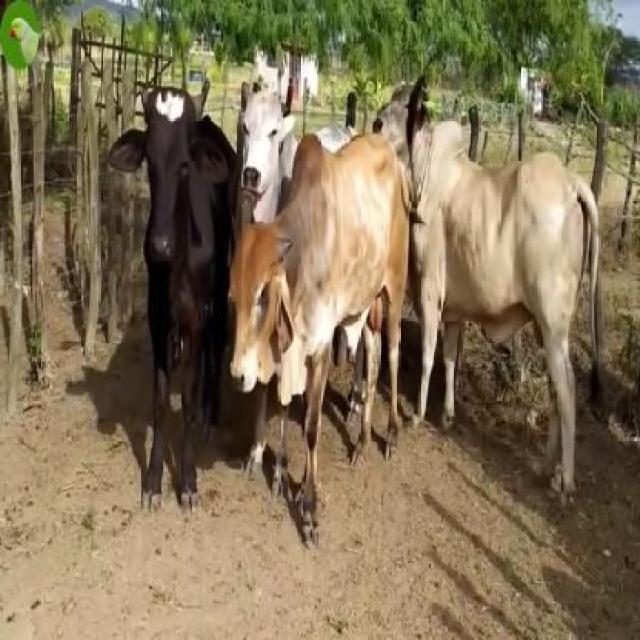Cow: (229, 138, 411, 554), (111, 77, 237, 514), (237, 92, 295, 223)
